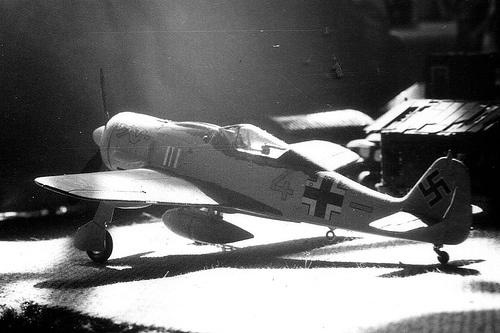aeroplane: (34, 110, 473, 266)
